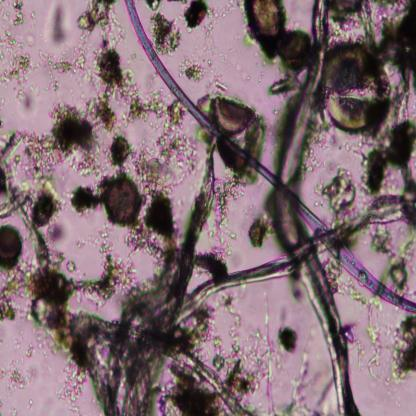Background material: (48, 0, 135, 179), (164, 289, 272, 414), (0, 249, 129, 351), (0, 118, 70, 258), (135, 96, 190, 268), (242, 1, 314, 99), (194, 157, 248, 282), (358, 298, 411, 381), (362, 118, 416, 199), (374, 0, 416, 103), (0, 0, 35, 117), (366, 219, 416, 296), (323, 169, 361, 222), (147, 1, 182, 57), (0, 344, 40, 390), (36, 52, 87, 87), (68, 178, 107, 222), (59, 359, 90, 411), (249, 205, 274, 250), (47, 3, 67, 50), (182, 1, 211, 32), (181, 58, 207, 86), (276, 324, 300, 352)
Cellulose filter fibre: (173, 195, 414, 327), (56, 286, 249, 414)
Diatom: (275, 1, 359, 415), (322, 38, 391, 137), (209, 92, 255, 136), (103, 177, 141, 225), (0, 226, 23, 264)
Microfibre: (124, 0, 415, 312)
